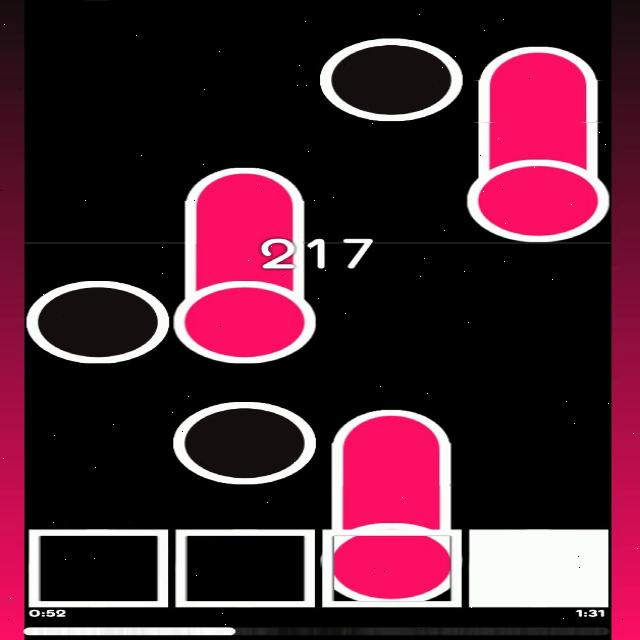end_hold: (181, 160, 311, 212), (329, 402, 456, 451), (474, 40, 606, 87)
note: (28, 277, 168, 366), (318, 36, 464, 120), (176, 400, 313, 487)
start_hold: (464, 147, 614, 246), (170, 267, 318, 367), (324, 505, 456, 603)
